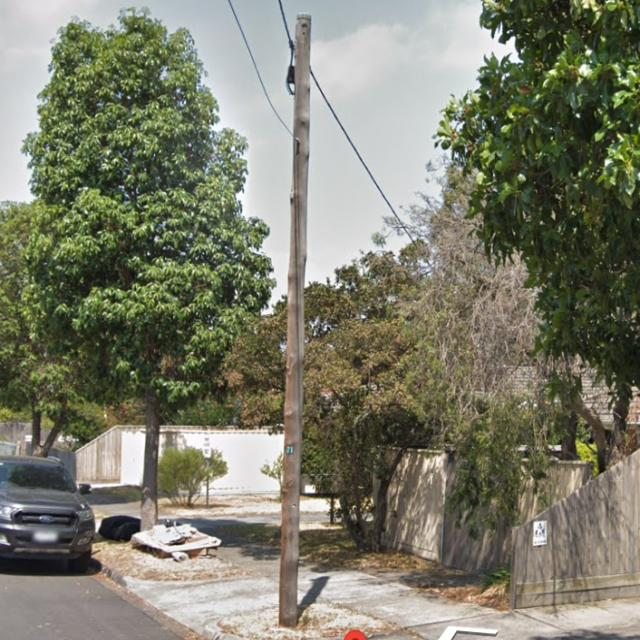timber-pole: (277, 12, 312, 628)
